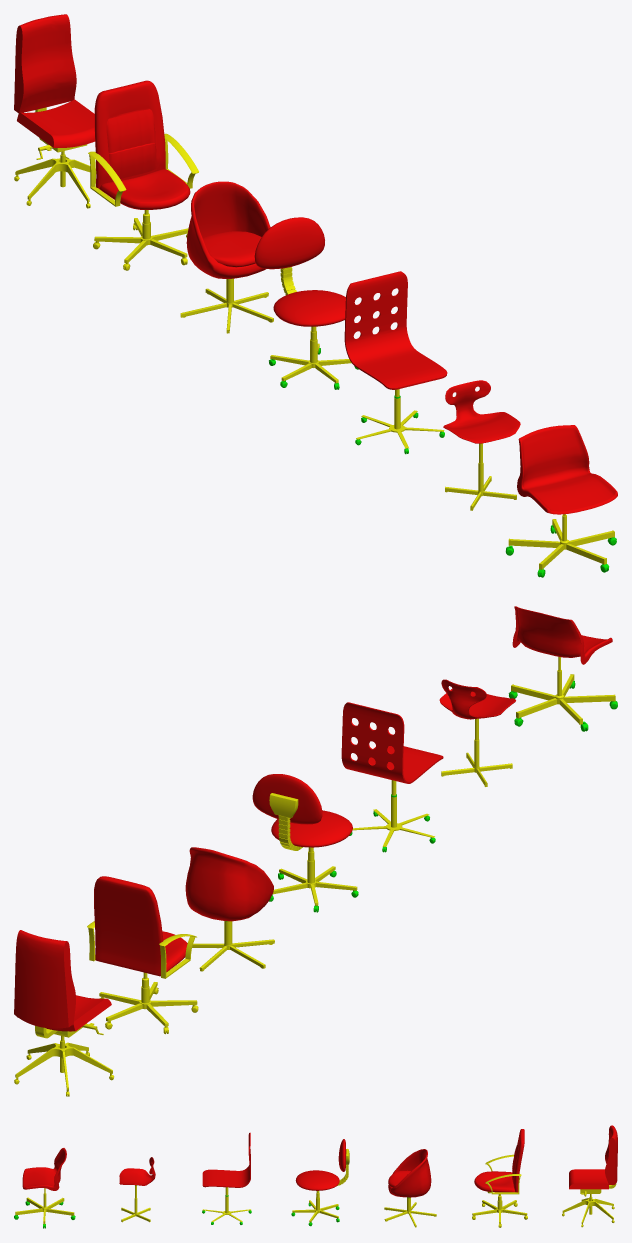
Rendered from thorkea_office_chairs_grp.fbx.
3 views of the same model, one above another, from view 1: azimuth 30°, elevation 25°; view 2: azimuth 150°, elevation 25°; view 3: azimuth 270°, elevation 25° (orthographic). The views are drawn at different scales.
Visible parts, largest first — view 1: thorkea_office_chair_allak, thorkea_office_chair_volmar, thorkea_office_chair_jules, thorkea_office_chair_snille, thorkea_office_chair_skruvsta, thorkea_office_chair_sevnning, thorkea_office_chair_molte; view 2: thorkea_office_chair_allak, thorkea_office_chair_volmar, thorkea_office_chair_sevnning, thorkea_office_chair_skruvsta, thorkea_office_chair_jules, thorkea_office_chair_snille, thorkea_office_chair_molte; view 3: thorkea_office_chair_volmar, thorkea_office_chair_skruvsta, thorkea_office_chair_allak, thorkea_office_chair_snille, thorkea_office_chair_sevnning, thorkea_office_chair_jules, thorkea_office_chair_molte.
Boxes of the visible parts, <box> form: thorkea_office_chair_allak: <box>88,80,198,270</box>; thorkea_office_chair_volmar: <box>14,14,96,208</box>; thorkea_office_chair_jules: <box>344,271,447,454</box>; thorkea_office_chair_snille: <box>505,425,617,577</box>; thorkea_office_chair_skruvsta: <box>180,181,273,333</box>; thorkea_office_chair_sevnning: <box>254,217,358,389</box>; thorkea_office_chair_molte: <box>443,380,520,510</box>; thorkea_office_chair_allak: <box>87,876,198,1034</box>; thorkea_office_chair_volmar: <box>14,930,114,1096</box>; thorkea_office_chair_sevnning: <box>252,774,358,912</box>; thorkea_office_chair_skruvsta: <box>185,847,274,971</box>; thorkea_office_chair_jules: <box>341,702,443,852</box>; thorkea_office_chair_snille: <box>508,606,617,731</box>; thorkea_office_chair_molte: <box>439,679,515,786</box>; thorkea_office_chair_volmar: <box>562,1125,617,1227</box>; thorkea_office_chair_skruvsta: <box>384,1149,436,1227</box>; thorkea_office_chair_allak: <box>472,1129,527,1227</box>; thorkea_office_chair_snille: <box>14,1148,75,1228</box>; thorkea_office_chair_sevnning: <box>291,1139,349,1226</box>; thorkea_office_chair_jules: <box>202,1132,251,1224</box>; thorkea_office_chair_molte: <box>119,1157,155,1222</box>.
Bounding box in the file's own units: 65.61 × 103 × 664.
